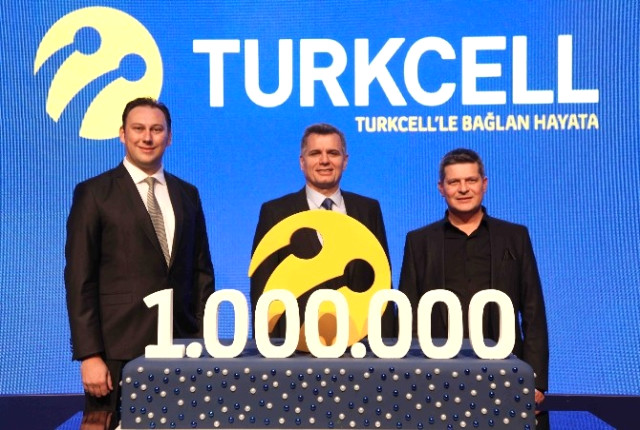turkcell: (245, 206, 391, 352), (33, 7, 166, 143)
